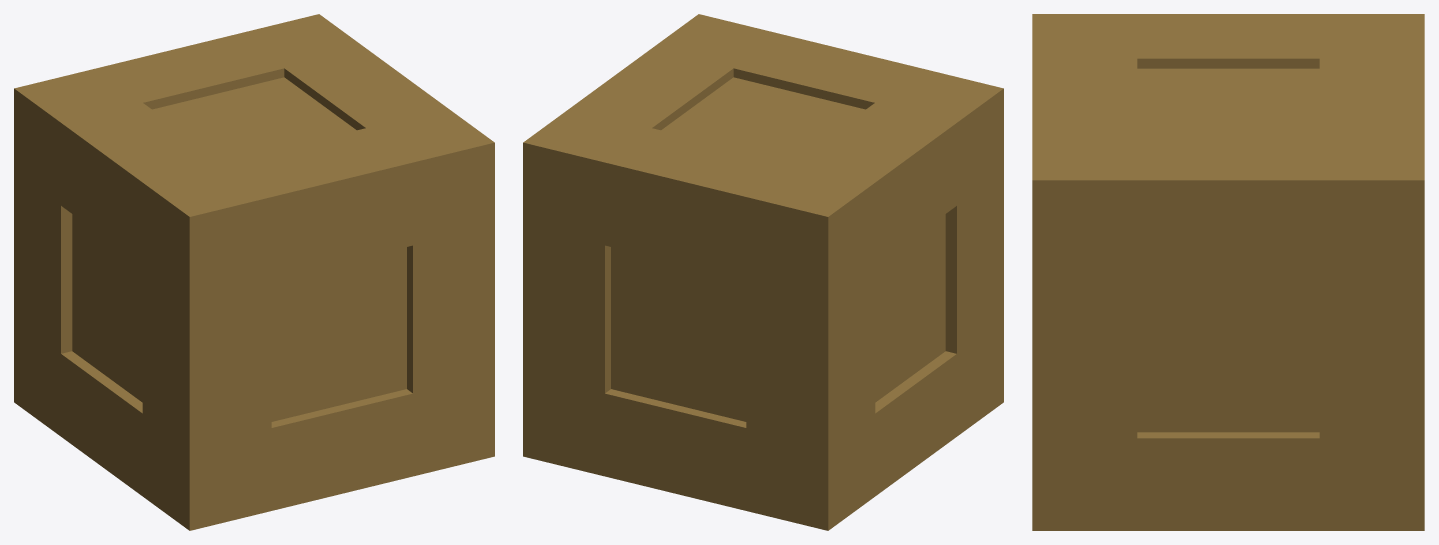
3 views of the same model, side by side, from view 1: azimuth 30°, elevation 25°; view 2: azimuth 150°, elevation 25°; view 3: azimuth 270°, elevation 25° (orthographic). The views are drawn at different scales.
Visible parts, largest first — view 1: Cube.004; view 2: Cube.004; view 3: Cube.004.
Part boxes in pixels (x1,y1,x2,y2): Cube.004: (14, 14, 494, 530); Cube.004: (523, 14, 1003, 530); Cube.004: (1032, 14, 1424, 530).
Bounding box in the file's own units: 77.83 × 76.53 × 77.62.
